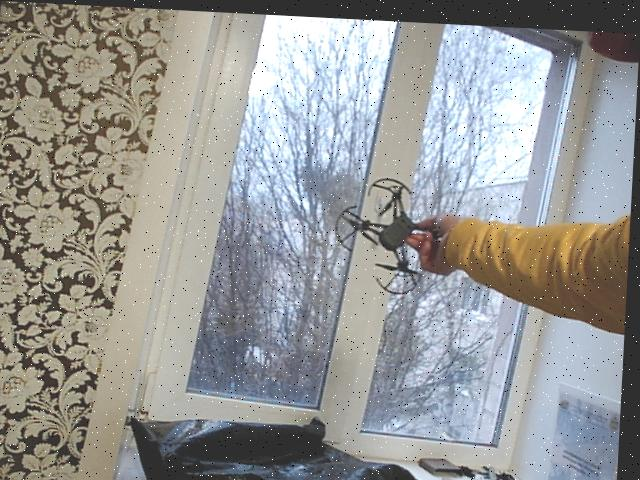drone: (331, 165, 461, 296)
